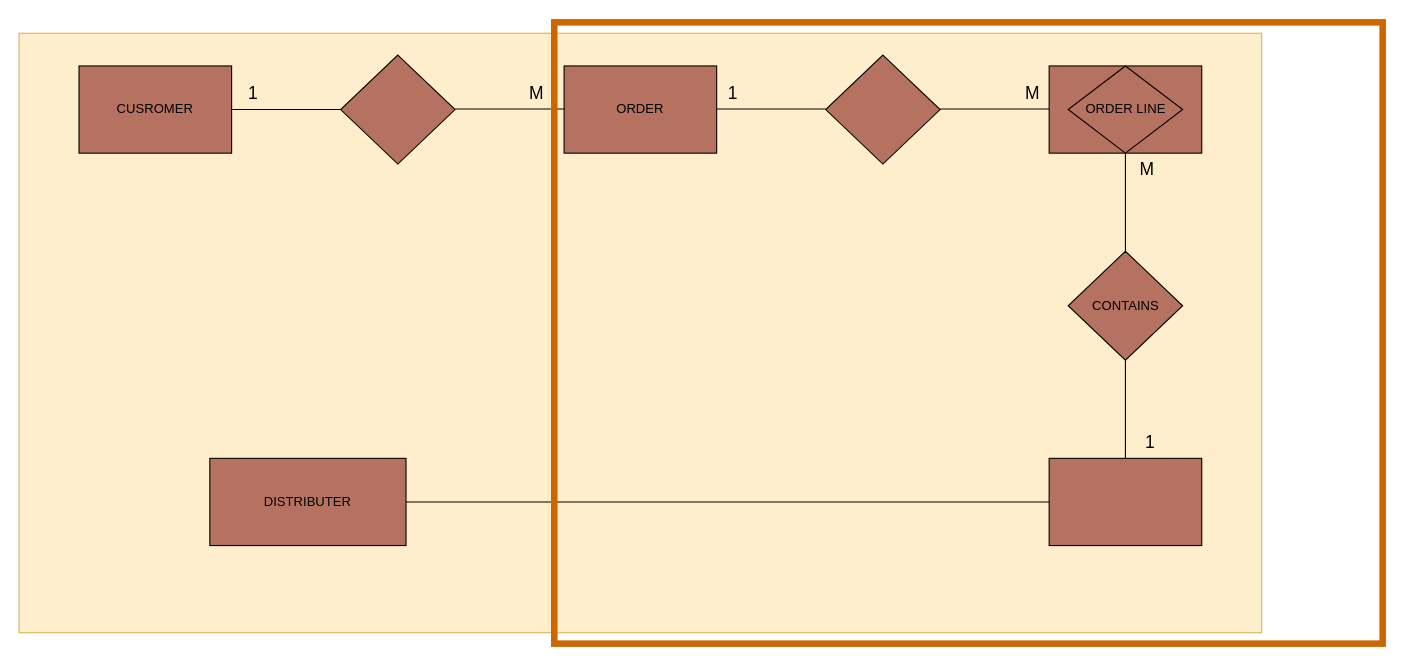
Some shapes in this 1405 by 665 pixel diagram are drawn without their labels. The shapes that lost their labels are listed below. From the top down, each one's box as (x1, y1, x2, y2) in pixels, then its label:
(340, 54, 455, 164): PLACES
(825, 54, 940, 164): HAS
(1048, 457, 1202, 546): PRODUCT
